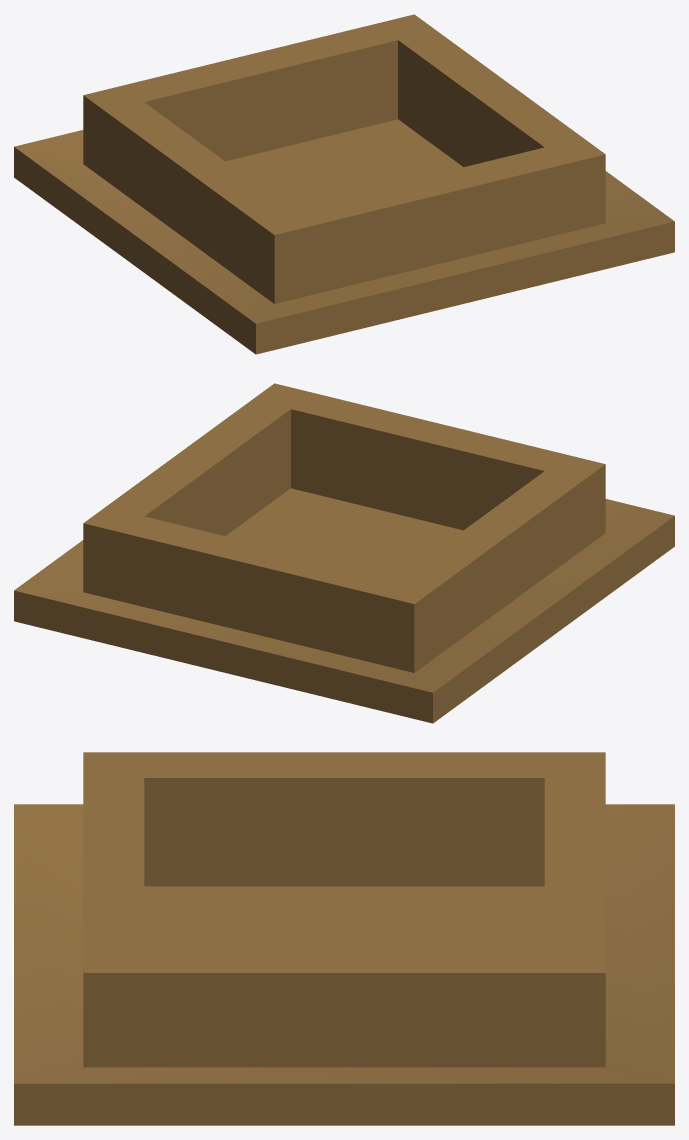
The model's file is pressure pad.fbx.
3 views of the same model, one above another, from view 1: azimuth 30°, elevation 25°; view 2: azimuth 150°, elevation 25°; view 3: azimuth 270°, elevation 25° (orthographic). The views are drawn at different scales.
Parts seen in each view (by area): view 1: pressurepad_base; view 2: pressurepad_base; view 3: pressurepad_base.
Boxes of the visible parts, box(x1,y1,x2,y2) form: pressurepad_base: box(14, 14, 674, 354); pressurepad_base: box(14, 383, 674, 723); pressurepad_base: box(14, 752, 674, 1125).
Size of the model in its own units: 18.7 by 3.85 by 18.7.
